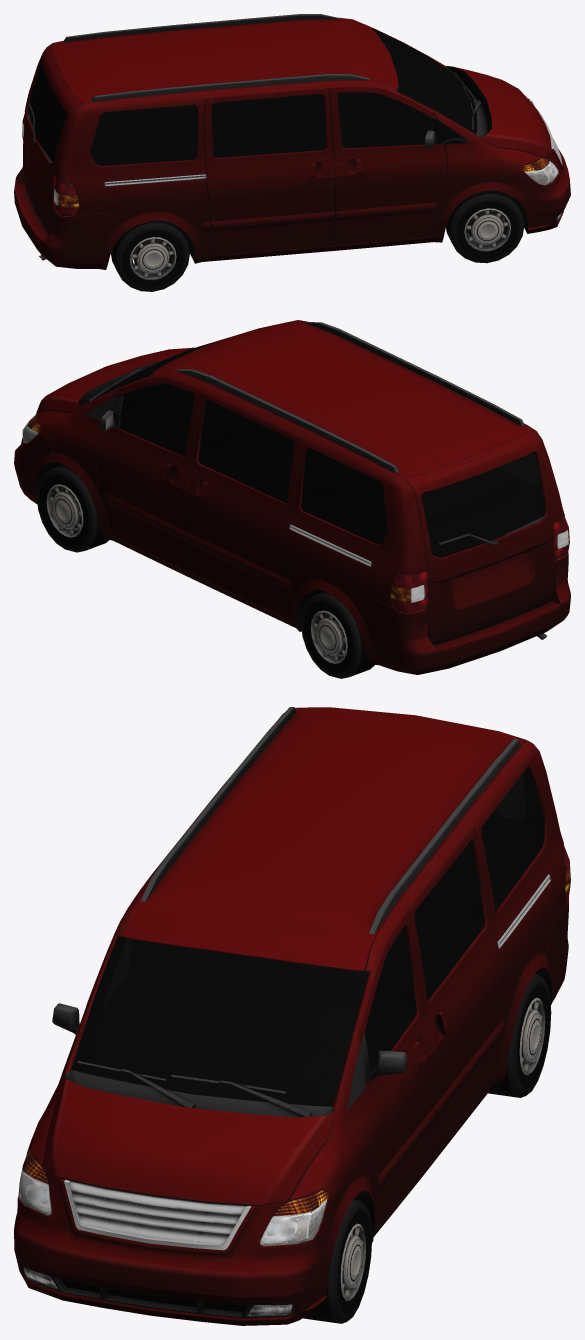
File: pack_minivan.glb
3 views of the same model, one above another, from view 1: azimuth 30°, elevation 25°; view 2: azimuth 150°, elevation 25°; view 3: azimuth 270°, elevation 25° (orthographic). The views are drawn at different scales.
Visible parts, largest first — view 1: minivan body_Body_0, minivan body_Glass_0, Wheel_D_Wheel_0, minivan body_Optics_0; view 2: minivan body_Body_0, minivan body_Glass_0, Wheel_D_Wheel_0, minivan body_Optics_0; view 3: minivan body_Body_0, minivan body_Glass_0, Wheel_D_Wheel_0, minivan body_Optics_0.
Boxes of the visible parts, x1,y1,x2,y2 form: minivan body_Body_0: (14, 14, 570, 269); minivan body_Glass_0: (28, 28, 477, 165); Wheel_D_Wheel_0: (111, 137, 524, 291); minivan body_Optics_0: (22, 113, 561, 219); minivan body_Body_0: (14, 320, 570, 674); minivan body_Glass_0: (93, 342, 545, 557); Wheel_D_Wheel_0: (37, 464, 374, 678); minivan body_Optics_0: (22, 414, 569, 613); minivan body_Body_0: (14, 707, 568, 1325); minivan body_Glass_0: (71, 768, 544, 1106); Wheel_D_Wheel_0: (303, 974, 551, 1323); minivan body_Optics_0: (18, 847, 570, 1315).
Size of the model in its own units: 4.62 by 1.76 by 2.81.
Materials: 4 (3 with a texture image).
